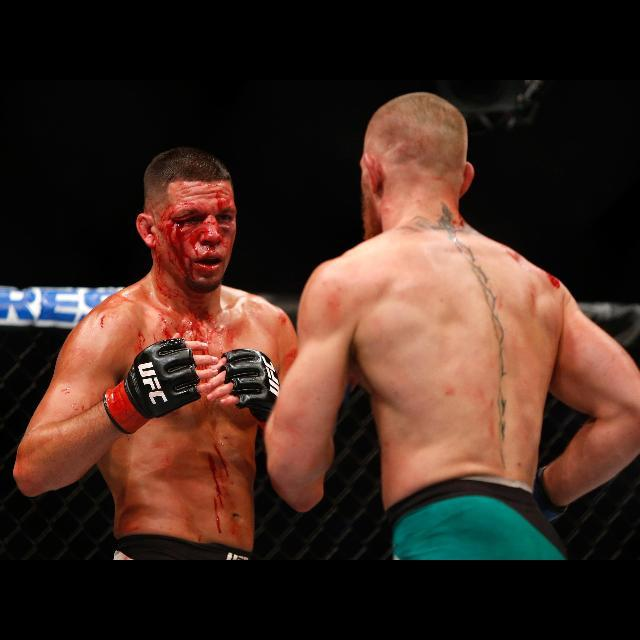blood: (85, 181, 250, 361), (198, 435, 247, 546), (60, 385, 102, 418), (443, 204, 477, 233), (199, 393, 223, 434), (113, 521, 145, 539), (277, 347, 297, 375), (506, 247, 525, 263), (545, 271, 561, 288), (278, 313, 289, 326), (196, 366, 207, 370), (201, 379, 208, 383)
